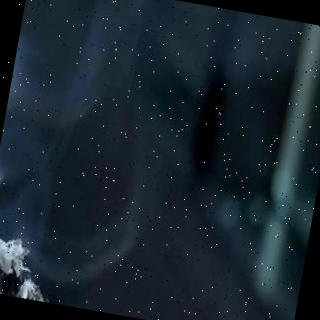smoke: (0, 35, 61, 211)
